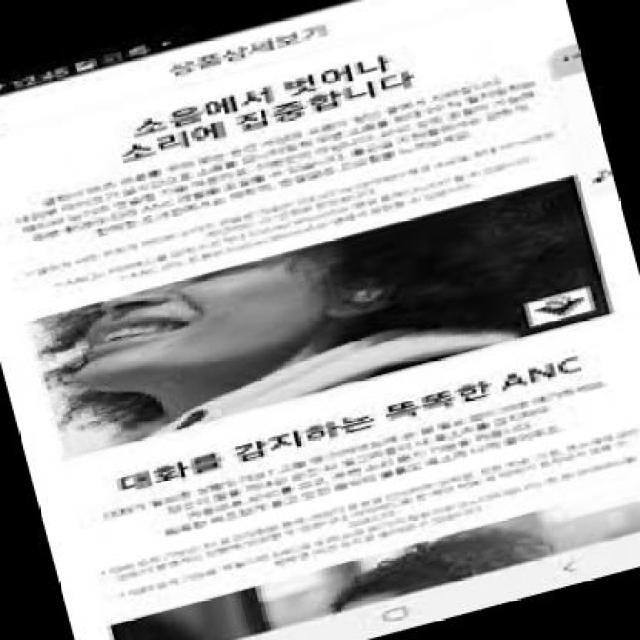earphone: (350, 272, 386, 312)
